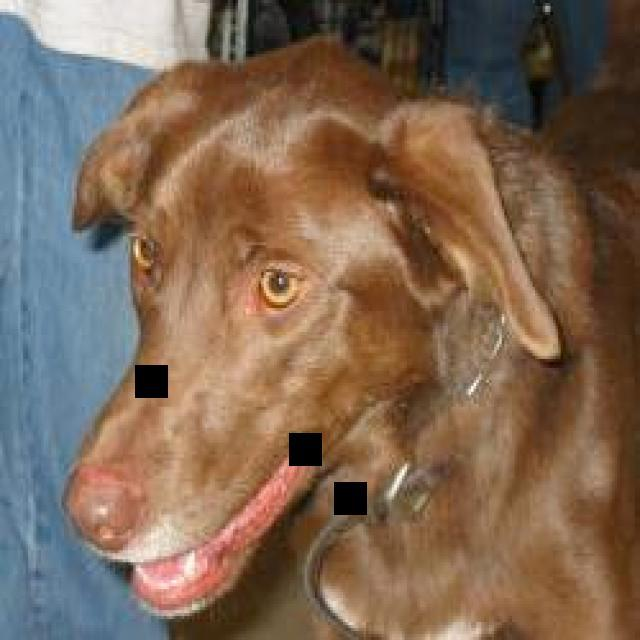adult_dog: (58, 37, 640, 632)
